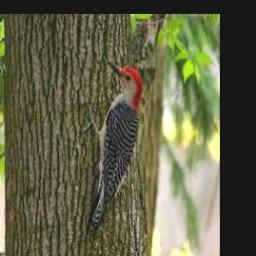Woodpecker: (83, 60, 143, 230)
